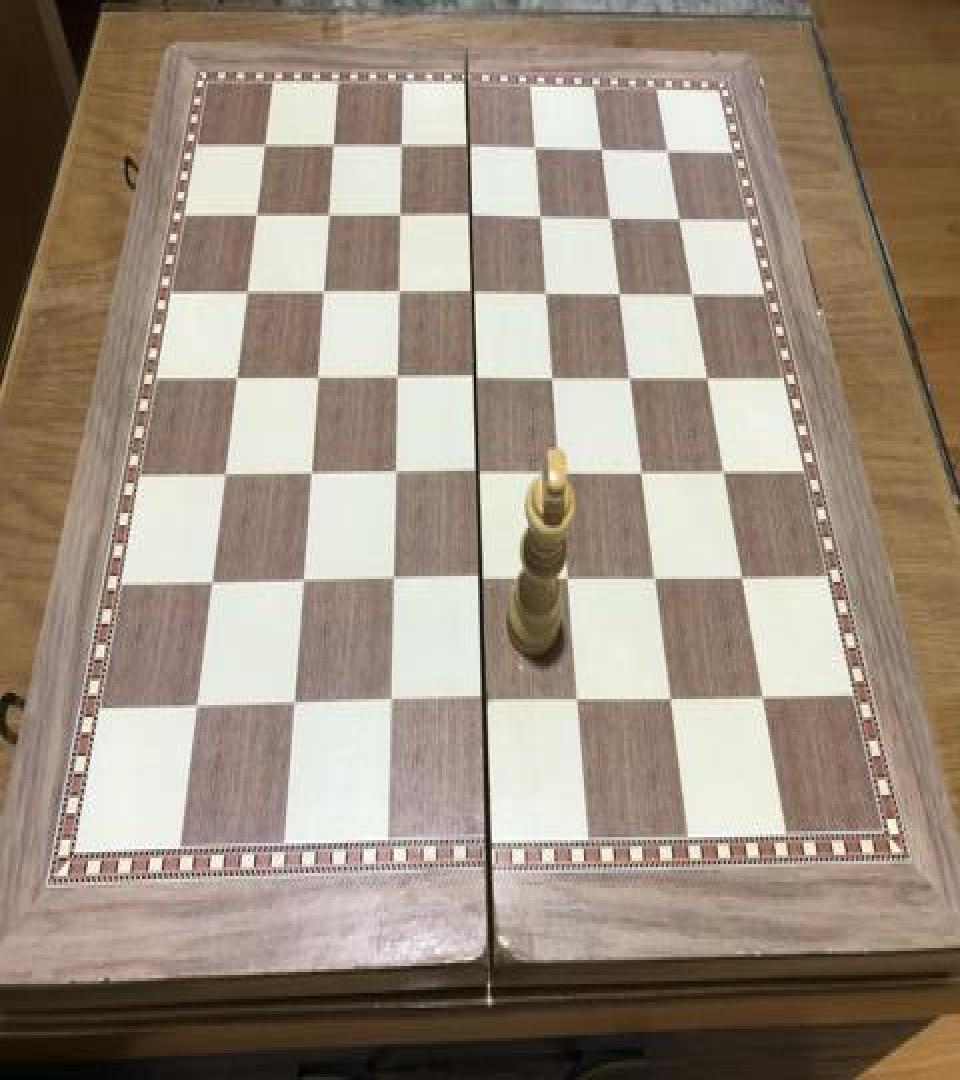xcorner: (713, 454, 739, 494), (631, 454, 657, 494), (644, 562, 670, 602), (556, 562, 582, 602), (659, 682, 685, 722), (376, 688, 402, 728), (657, 129, 683, 168), (590, 129, 616, 168), (523, 129, 549, 168), (251, 126, 277, 165), (669, 198, 695, 237), (599, 198, 625, 237), (529, 198, 555, 237), (458, 198, 484, 237), (386, 198, 412, 237), (314, 197, 340, 236), (242, 197, 268, 236), (682, 274, 708, 313), (609, 274, 635, 313), (534, 274, 560, 313), (460, 274, 486, 313), (385, 274, 411, 313), (309, 274, 335, 313), (233, 274, 259, 313), (697, 360, 723, 399), (619, 360, 645, 399), (541, 360, 567, 399), (462, 360, 488, 399), (383, 360, 409, 399), (548, 456, 574, 495), (465, 456, 491, 495), (732, 561, 758, 600), (468, 564, 494, 603), (378, 565, 404, 604), (288, 567, 314, 606), (197, 567, 223, 606), (753, 681, 779, 720), (566, 684, 592, 723), (471, 687, 497, 726), (279, 690, 305, 729), (182, 691, 208, 730), (456, 128, 482, 166), (388, 128, 414, 166), (319, 128, 345, 166), (303, 362, 329, 400), (222, 362, 248, 400), (381, 458, 407, 496), (296, 458, 322, 496), (211, 458, 237, 496)
